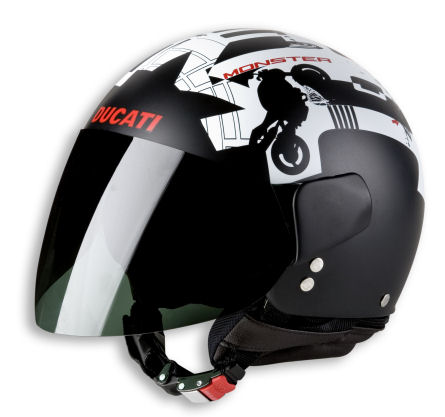helmet: (53, 33, 421, 347)
